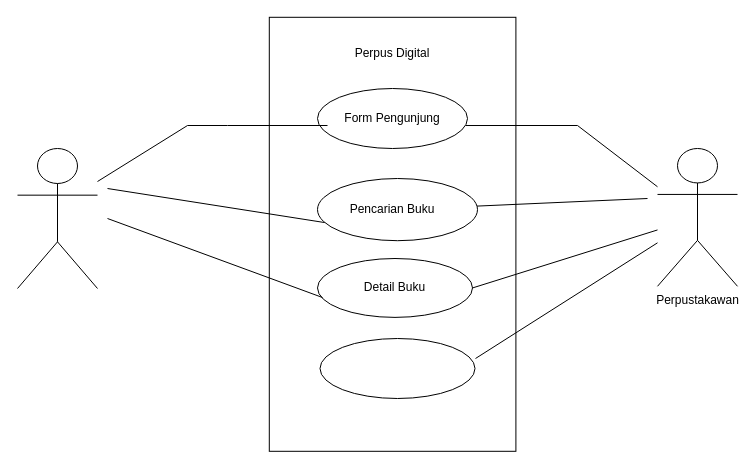
This 756x469 diagram has some shape labels left out. The centre of each missing label's shape, as x and y in pixels:
"Laporan Statistik" belongs at (x=397, y=368).
"Pengunjung" belongs at (x=57, y=218).
